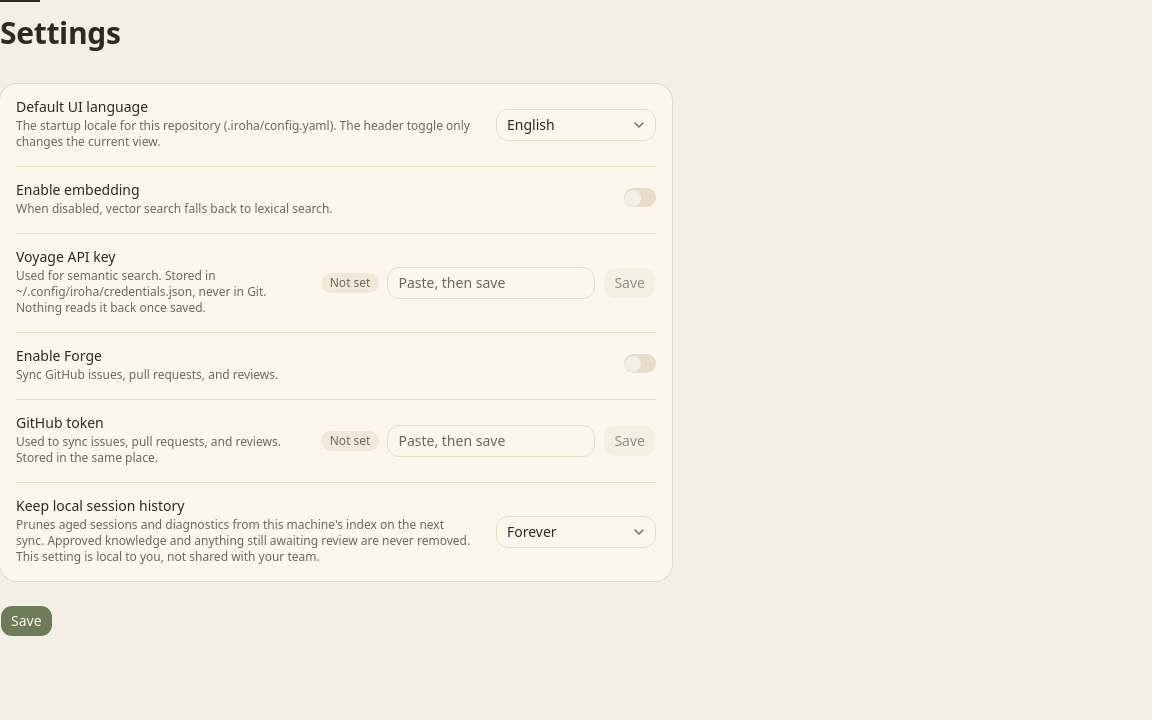
Test: Settings — save feedback › reports a rejected save as an error toast
The width and height of the screenshot is (1152, 720).
expect the text "Keep local session history" is shown: met, box x1=16 y1=496 x2=184 y2=514
Click the 3rd button "Save" at {"x": 26, "y": 620}, box x1=0 y1=604 x2=53 y2=636
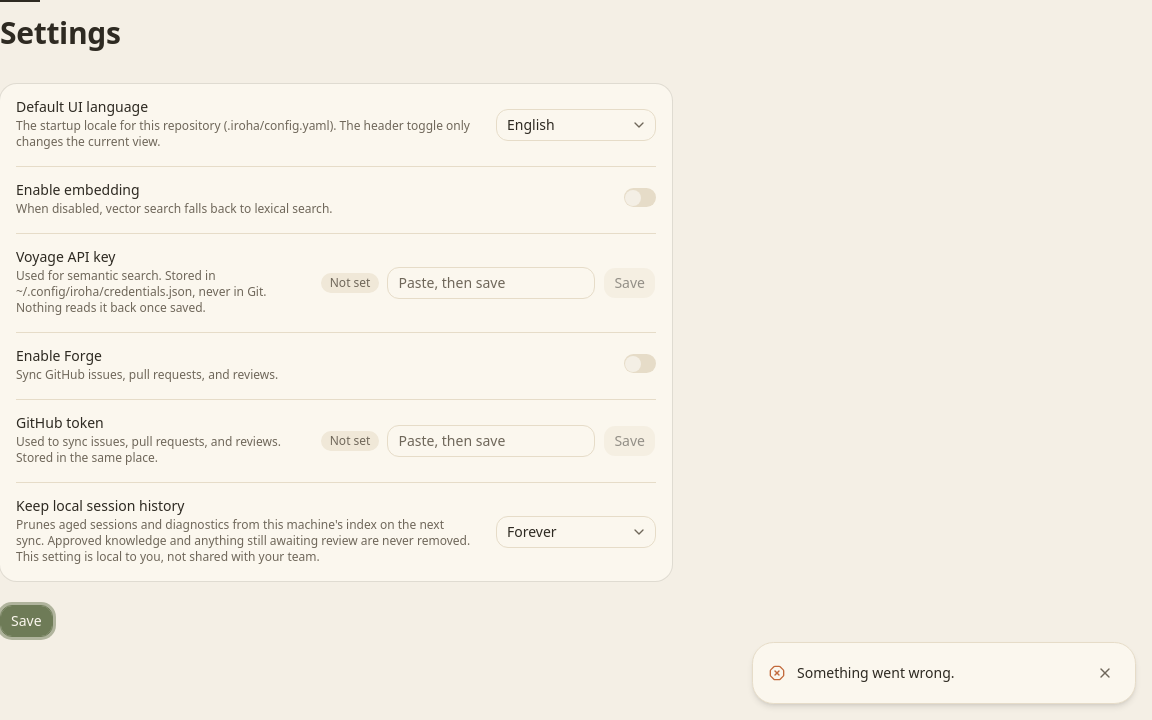
expect the heading "Something went wrong." is shown: met, box x1=797 y1=663 x2=955 y2=682
